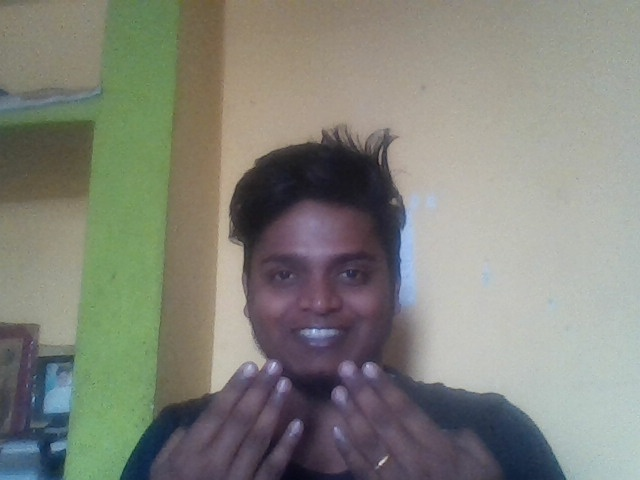thanks: (81, 327, 557, 480)
